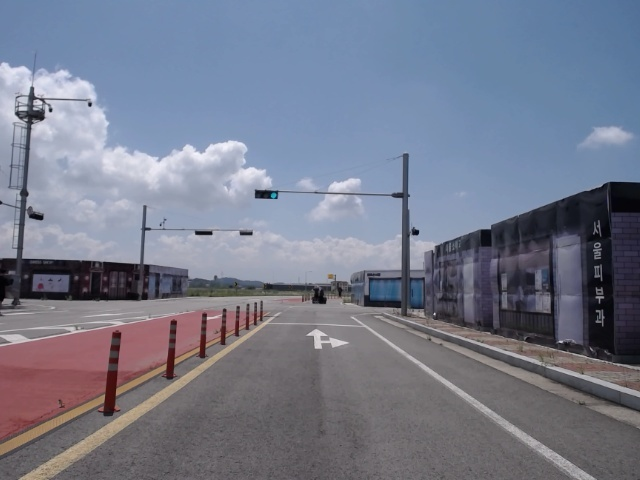green_3: (254, 189, 278, 198)
